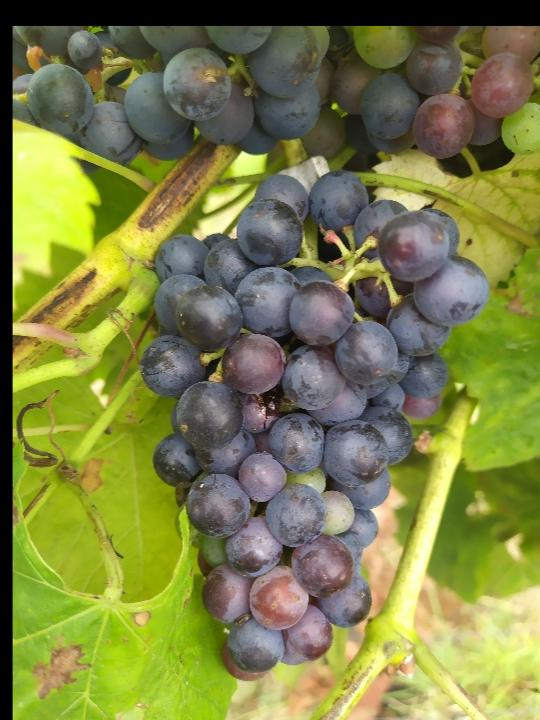grape: (133, 167, 500, 686)
